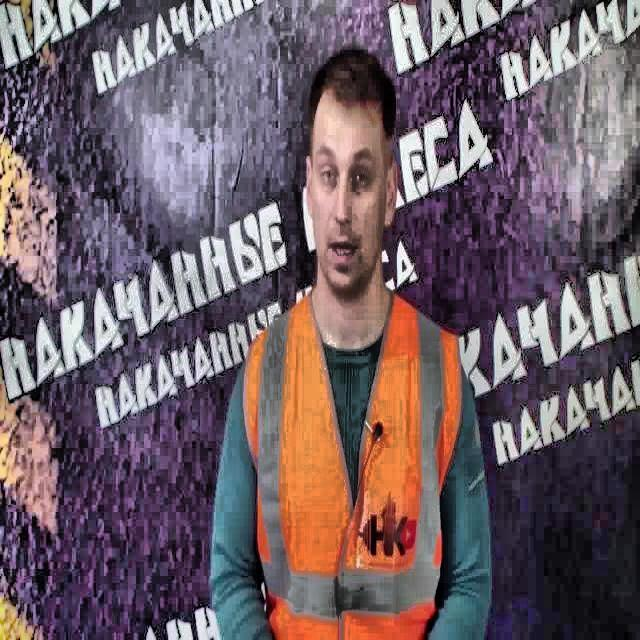safety_jacket: (242, 292, 466, 640)
